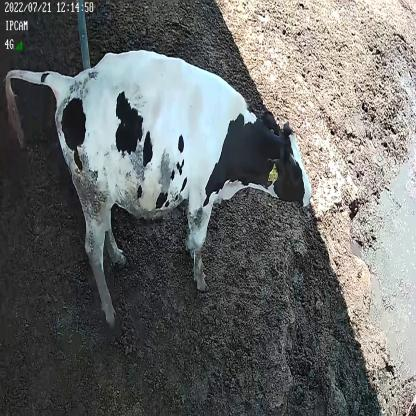cow: (3, 49, 314, 326)
